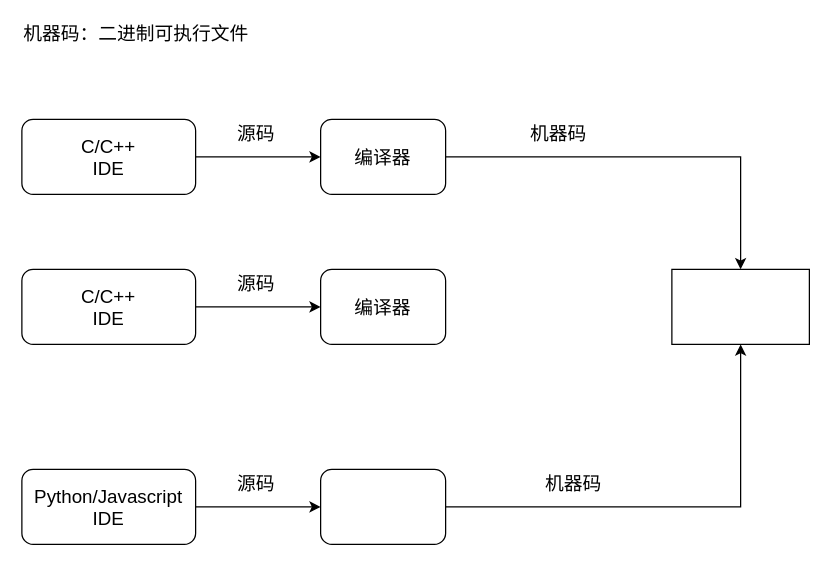
Some shapes in this 831 by 566 pixel diagram are drawn without their labels. The centre of each missing label's shape, as x and y in pixels:
"操作系统" belongs at (740,306).
"解释器" belongs at (382,506).
